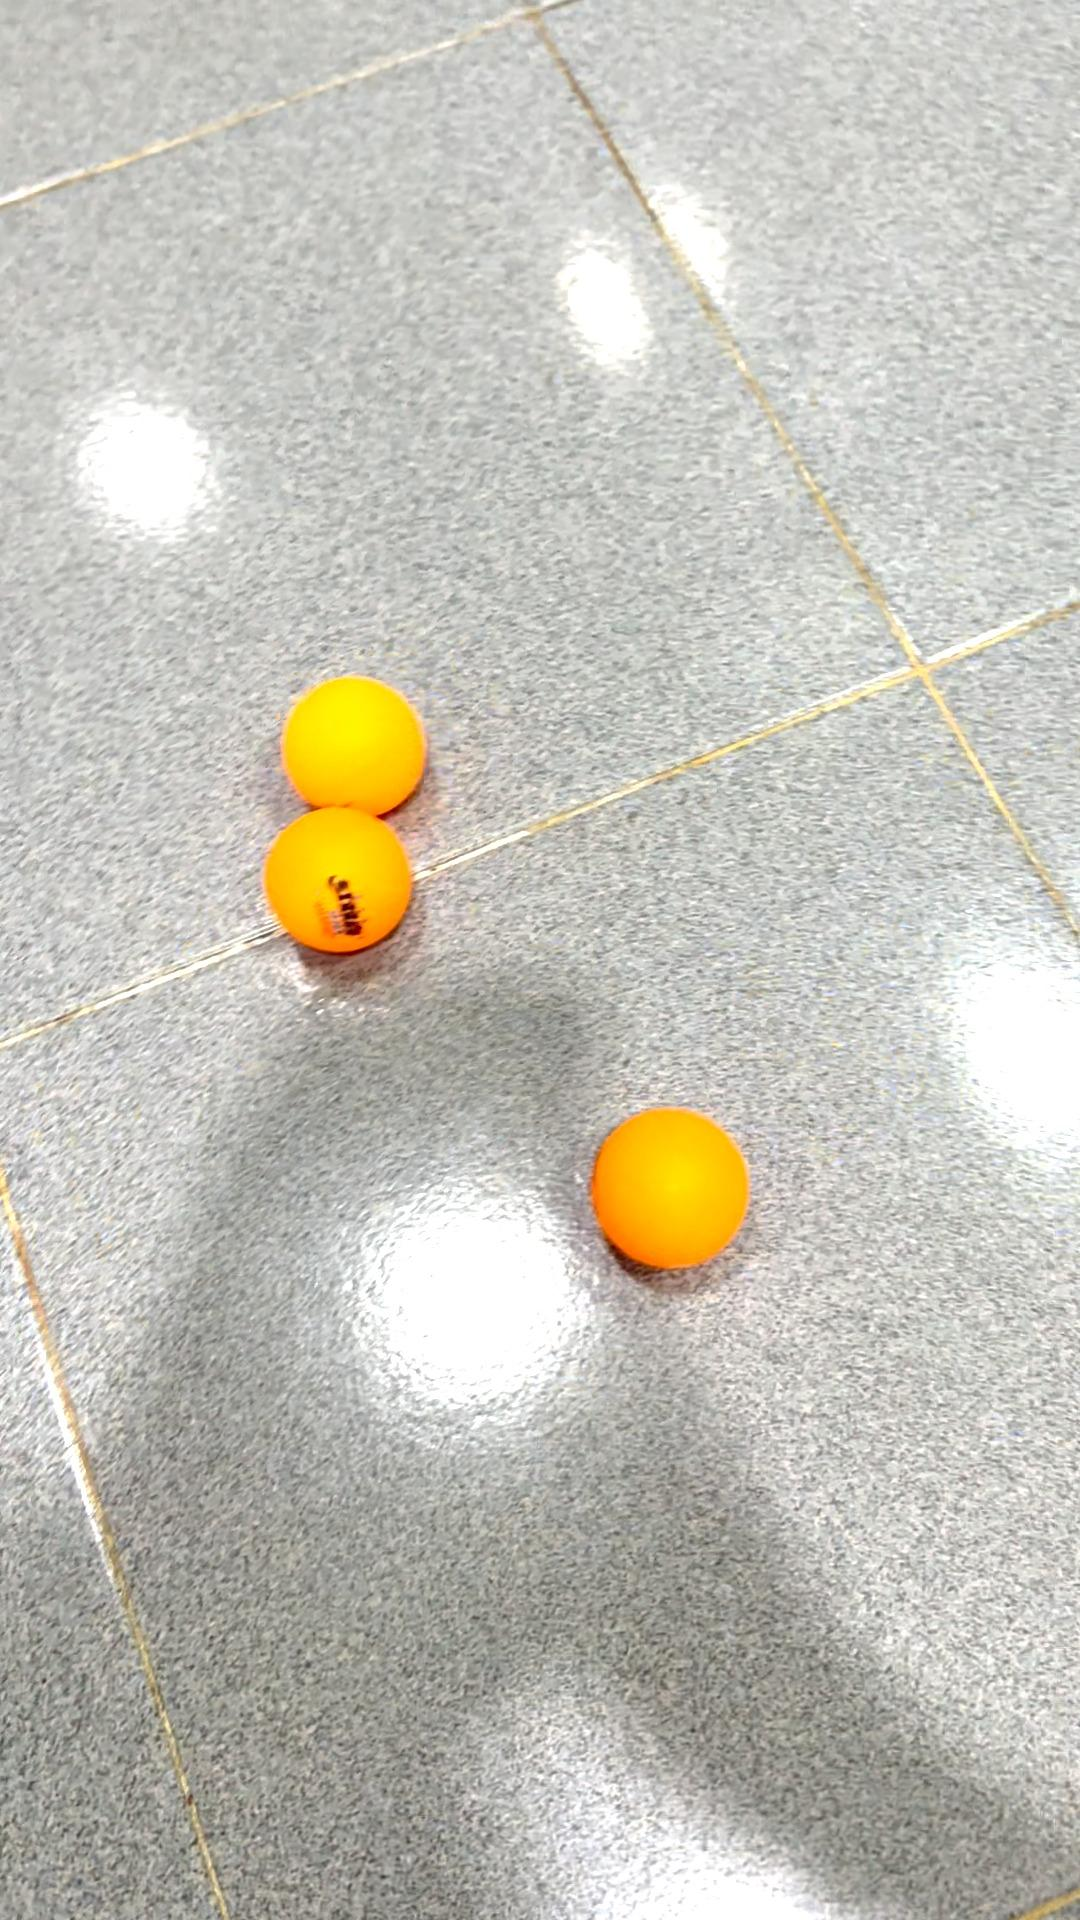oball: (582, 1097, 764, 1291), (248, 798, 438, 967), (261, 658, 446, 819)
